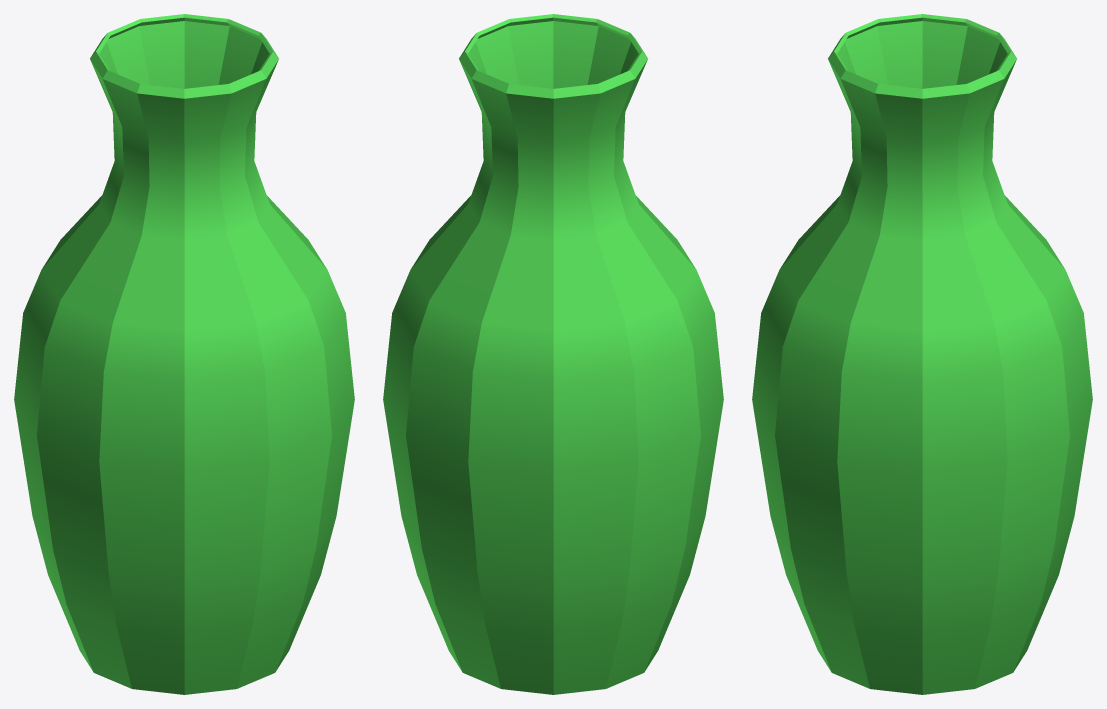
The model's file is Pot_02.fbx.
3 renders of one model, left to right at view 1: azimuth 30°, elevation 25°; view 2: azimuth 150°, elevation 25°; view 3: azimuth 270°, elevation 25°, orthographic.
Visible parts, largest first — view 1: Pot_02; view 2: Pot_02; view 3: Pot_02.
Boxes of the visible parts, box(x1,y1,x2,y2) form: Pot_02: box(14, 14, 354, 694); Pot_02: box(383, 14, 723, 694); Pot_02: box(752, 14, 1092, 694).
Bounding box in the file's own units: 51.59 × 100 × 51.59.
